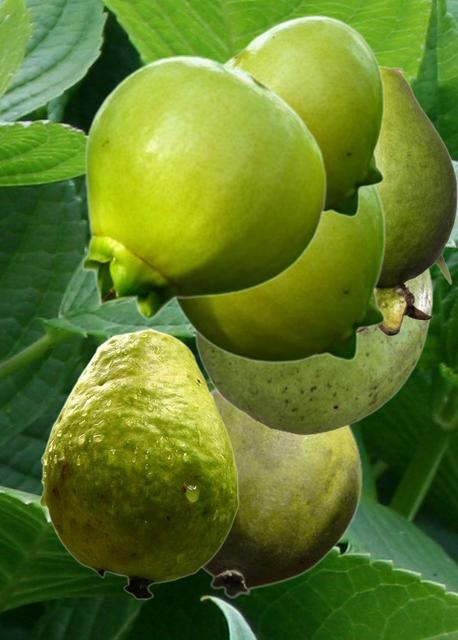guava: (81, 55, 326, 319), (39, 328, 238, 599), (194, 268, 432, 434), (173, 186, 385, 362), (201, 388, 362, 597), (223, 14, 384, 218), (359, 65, 456, 335)
